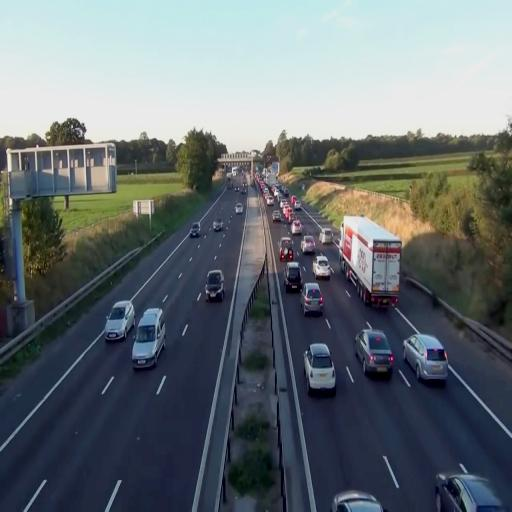vehicle: (339, 214, 402, 308), (434, 466, 506, 511), (403, 332, 448, 384), (132, 308, 166, 370), (354, 328, 394, 379), (304, 342, 336, 394), (105, 300, 135, 342), (332, 489, 384, 512), (300, 281, 324, 316), (204, 269, 224, 301), (284, 262, 302, 292), (313, 254, 332, 281), (301, 236, 318, 254), (213, 220, 224, 233), (191, 223, 201, 237)
